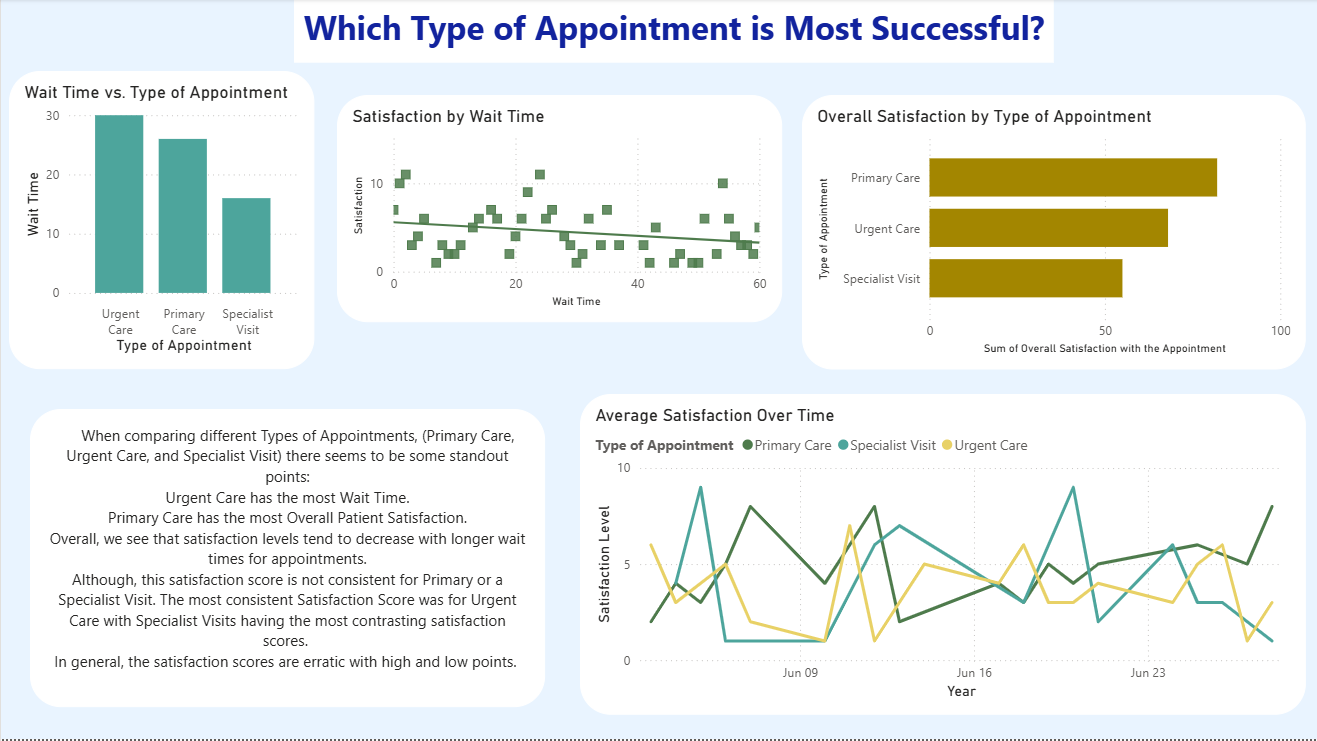

The page's visual inventory and layout, read from the dashboard file:
{"tool":"powerbi","page":{"name":"Appointment Type Dashboard","canvas":[1280,720],"ordinal":0},"visuals":[{"type":"columnChart","title":"Wait Time vs.  Type of Appointment","fields":{"Category":["patient_experience_survey_data.Type of Appointment"],"Y":["Count(patient_experience_survey_data.Wait Time (Arrival to Seeing Doctor))"]},"box":[7.8,70,296.7,289.8],"z":0},{"type":"textbox","box":[285,0,739.2,62.2],"z":1},{"type":"lineChart","title":"Average Satisfaction Over Time","fields":{"Category":["patient_experience_survey_data.Date of Visit.Variation.Date Hierarchy.Year","patient_experience_survey_data.Date of Visit.Variation.Date Hierarchy.Quarter","patient_experience_survey_data.Date of Visit.Variation.Date Hierarchy.Month","patient_experience_survey_data.Date of Visit.Variation.Date Hierarchy.Day"],"Series":["patient_experience_survey_data.Type of Appointment"],"Y":["Sum(patient_experience_survey_data.Overall Satisfaction with the Appointment)"]},"box":[563.2,384.2,706.1,312.2],"z":2},{"type":"clusteredBarChart","title":"Overall Satisfaction by Type of Appointment","fields":{"Category":["patient_experience_survey_data.Type of Appointment"],"Y":["Sum(patient_experience_survey_data.Overall Satisfaction with the Appointment)"]},"box":[779.1,93.4,490.2,266.5],"z":3},{"type":"scatterChart","title":"Satisfaction by Wait Time ","fields":{"X":["patient_experience_survey_data.Wait Time (Arrival to Seeing Doctor)"],"Y":["Sum(patient_experience_survey_data.Overall Satisfaction with the Appointment)"]},"box":[326.8,93.4,432.8,220.8],"z":4},{"type":"textbox","box":[28.2,398.8,500.9,262.6],"z":5}]}

Visuals, with their boxes in screenshot pixels (x1, y1, x2, y2), scaled from the page's 1280x720 canvas onto the 1317x741 screenshot:
"Wait Time vs.  Type of Appointment" columnChart: (8, 72, 313, 370)
textbox: (293, 0, 1054, 64)
"Average Satisfaction Over Time" lineChart: (579, 395, 1306, 717)
"Overall Satisfaction by Type of Appointment" clusteredBarChart: (802, 96, 1306, 370)
"Satisfaction by Wait Time " scatterChart: (336, 96, 782, 323)
textbox: (29, 410, 544, 681)
